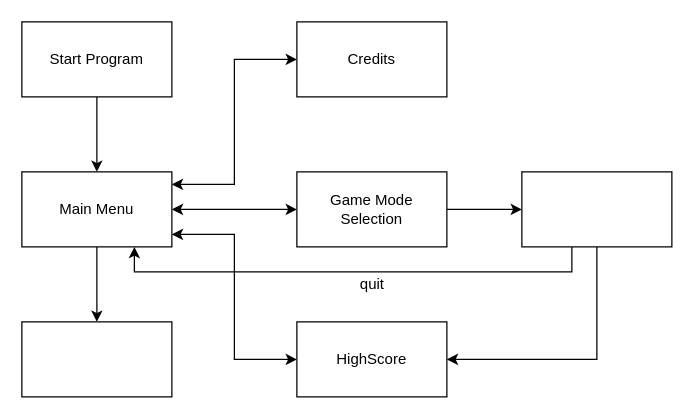
This 694x419 diagram has some shape labels left out. Here are the shapes that lost their labels. From the top down, the box of each, then its label:
(521, 171, 672, 247): Gameplay
(21, 321, 172, 397): Stop Program
